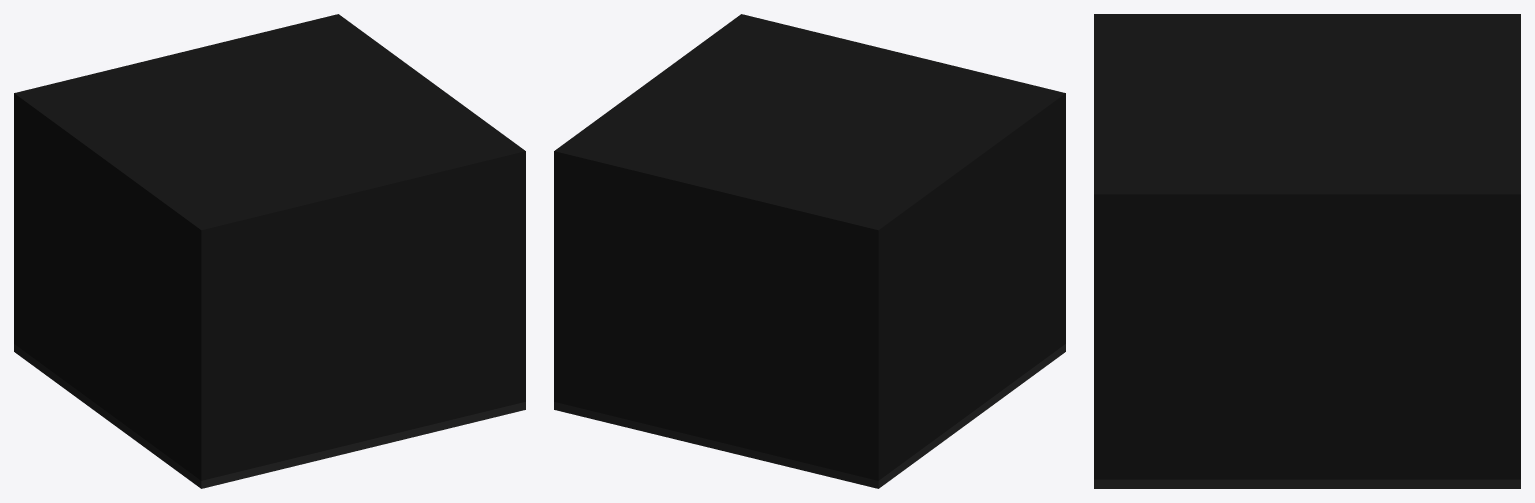
Rendered from CellRoom.fbx.
The picture shows the model from 3 angles, left to right: view 1: azimuth 30°, elevation 25°; view 2: azimuth 150°, elevation 25°; view 3: azimuth 270°, elevation 25°; orthographic projection. The views are drawn at different scales.
Parts seen in each view (by area): view 1: CellRoom; view 2: CellRoom; view 3: CellRoom.
Boxes of the visible parts, x1,y1,x2,y2 form: CellRoom: (14,14,525,488); CellRoom: (554,14,1065,488); CellRoom: (1094,14,1520,488).
Bounding box in the file's own units: 8.4 × 6.4 × 8.4.
